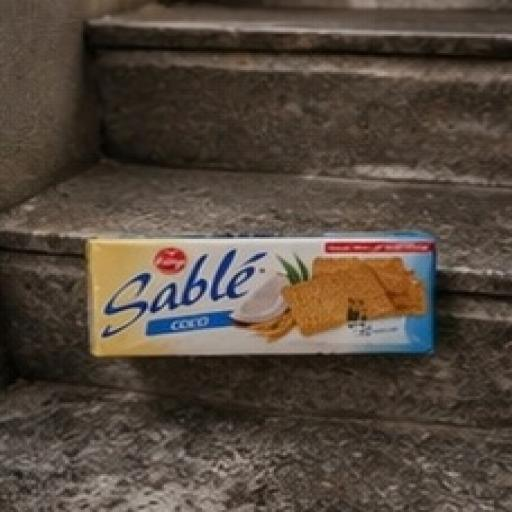sable: (33, 170, 512, 435)
